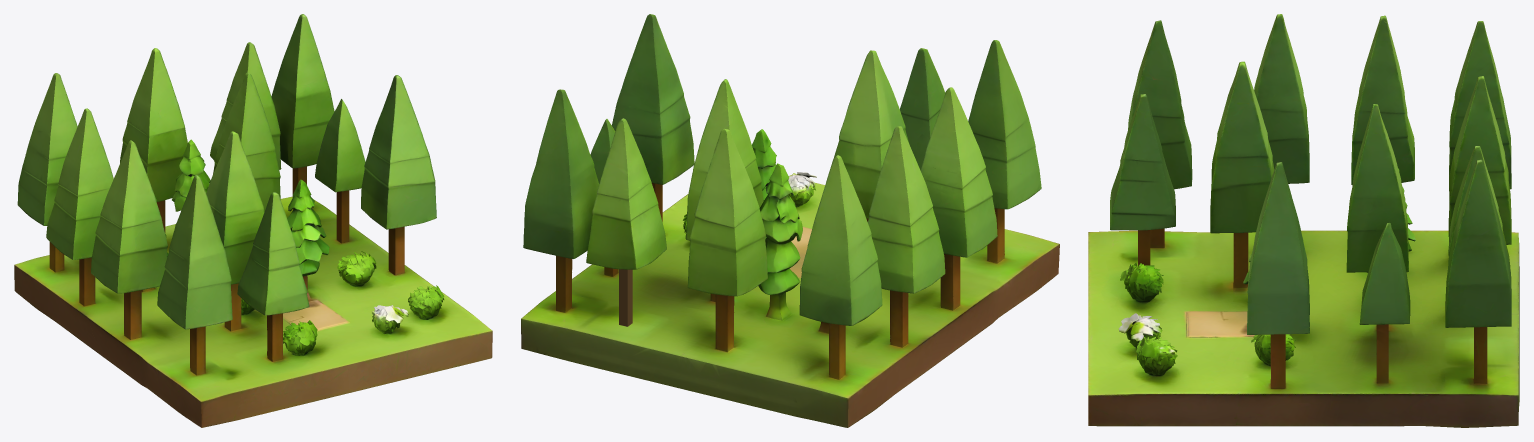
Rendered from forestT.glb.
3 renders of one model, left to right at view 1: azimuth 30°, elevation 25°; view 2: azimuth 150°, elevation 25°; view 3: azimuth 270°, elevation 25°, orthographic. The views are drawn at different scales.
Parts seen in each view (by area): view 1: model; view 2: model; view 3: model.
Part boxes in pixels (box(x1,y1,x2,y2)): model: box(14, 14, 492, 427); model: box(521, 14, 1059, 427); model: box(1088, 14, 1519, 427).
Size of the model in its own units: 1.78 by 1.2 by 1.81.
2 materials, 1 textured.
